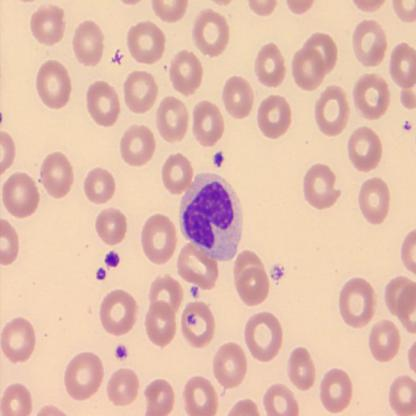Metamyelocyte: (177, 169, 246, 263)
